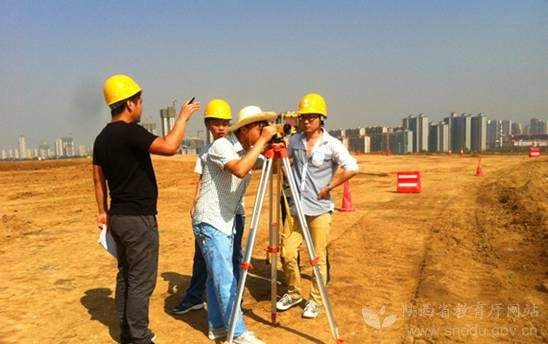white: (238, 106, 266, 146)
yellow: (103, 74, 145, 125), (201, 99, 233, 140), (297, 93, 328, 135)
